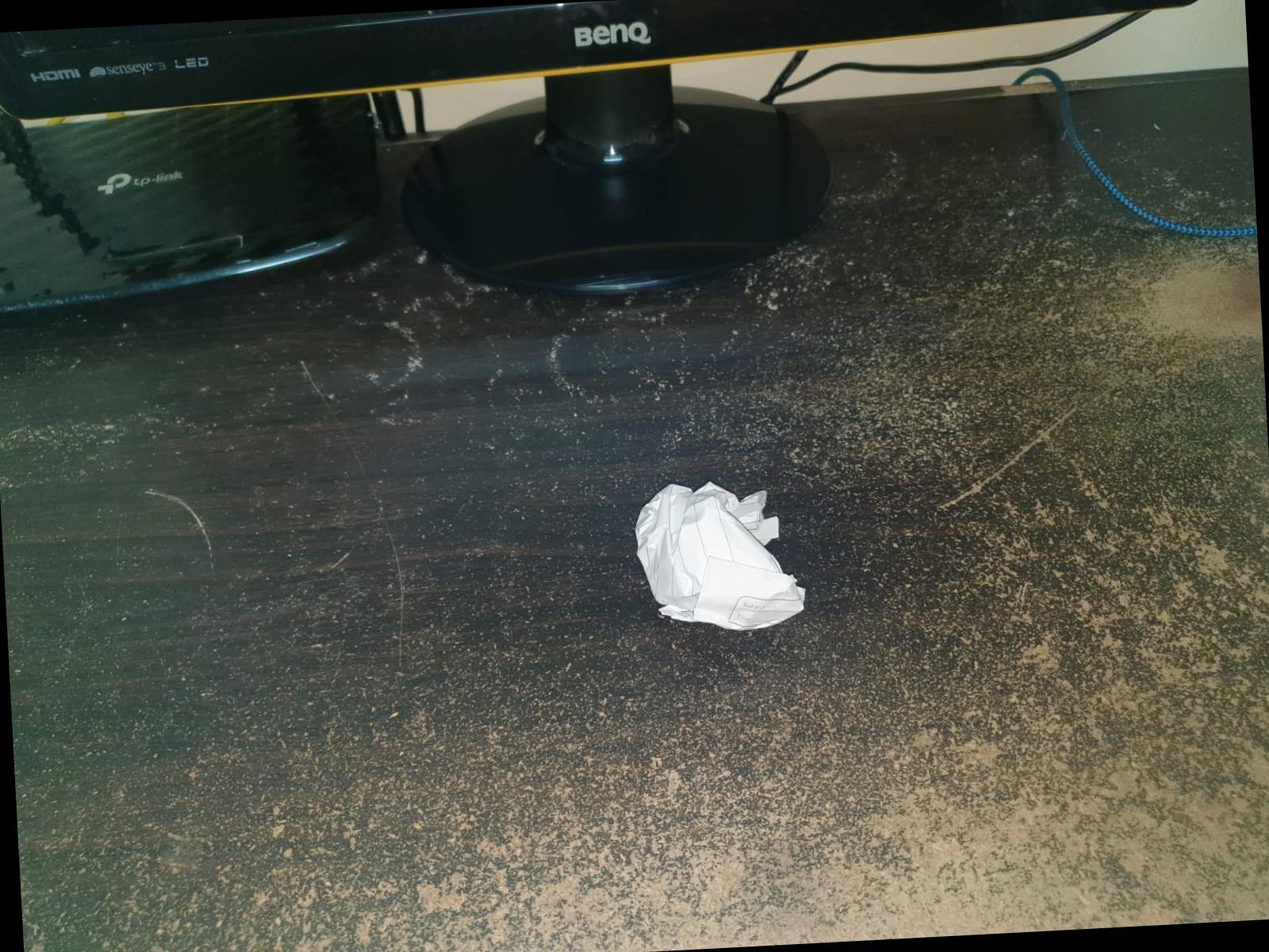Kertas: (627, 481, 805, 649)
